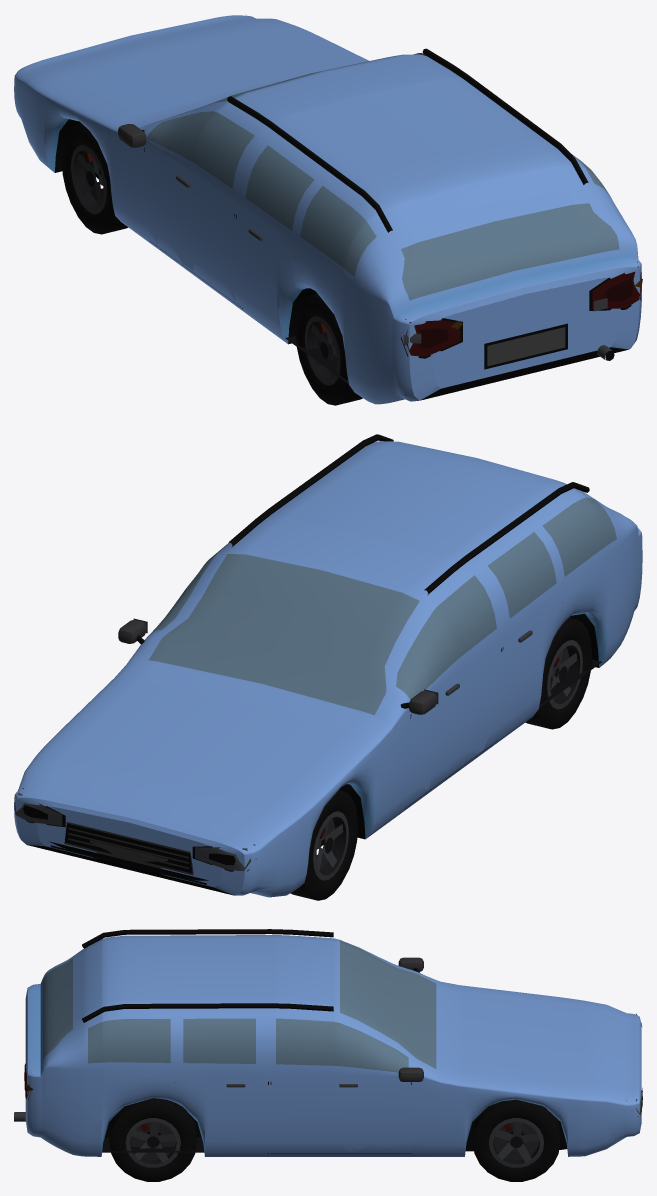
The model's file is cv2_wagon.glb.
3 renders of one model, top to bottom at view 1: azimuth 30°, elevation 25°; view 2: azimuth 150°, elevation 25°; view 3: azimuth 270°, elevation 25°, orthographic. The views are drawn at different scales.
Visible parts, largest first — view 1: Body, DoorL_Mesh; view 2: Body, DoorL_Mesh; view 3: Body, DoorR_Mesh.
Boxes of the visible parts, x1=… form: Body: x1=14, y1=15, x2=642, y2=405; DoorL_Mesh: x1=144, y1=111, x2=257, y2=304; Body: x1=14, y1=434, x2=642, y2=900; DoorL_Mesh: x1=395, y1=573, x2=501, y2=790; Body: x1=14, y1=929, x2=642, y2=1181; DoorR_Mesh: x1=271, y1=1018, x2=411, y2=1151.
Size of what is drawn, in the model's own units: 2.2 by 1.5 by 5.02.
